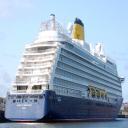cruises: (5, 8, 126, 122)
